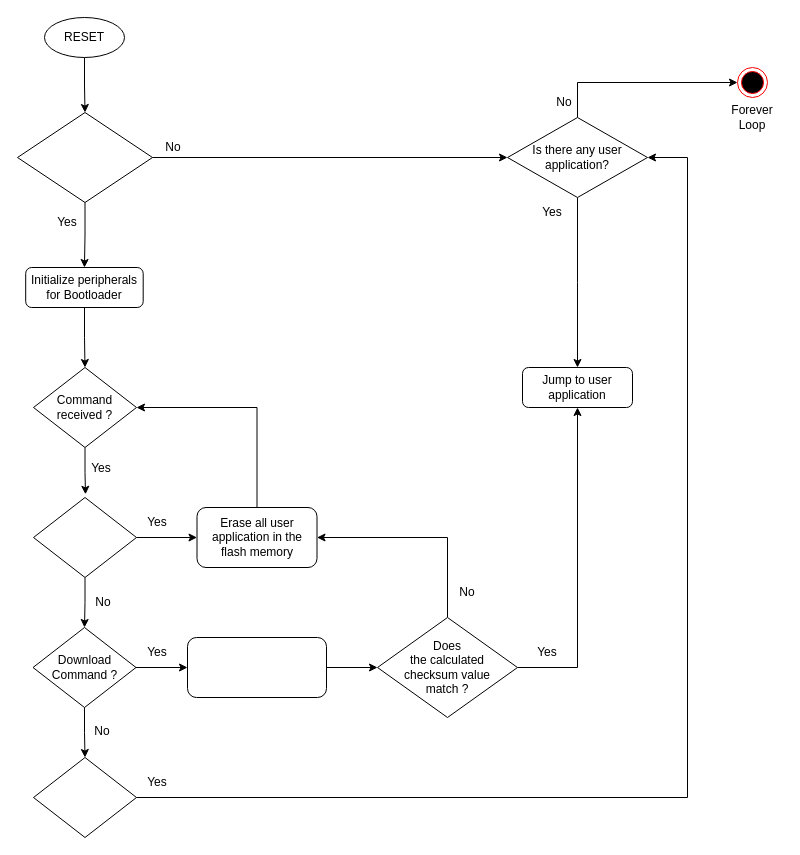
This 800x855 diagram has some shape labels left out. The shapes that lost their labels are listed below. From the top down, each one's box as (x1, y1, x2, y2) in pixels, then its label:
(16, 112, 152, 202): User Key button pressed ?
(32, 496, 136, 578): Erase App Command ?
(186, 636, 326, 698): Receive the binary file and its checksum value
(32, 756, 136, 838): Execute Command ?
